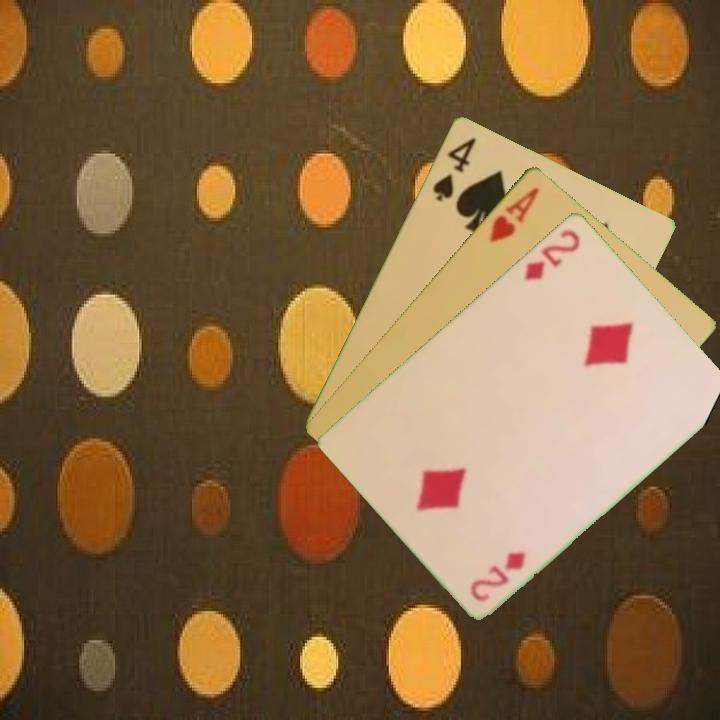2d: (521, 225, 584, 283), (466, 547, 529, 604)
4s: (429, 133, 479, 204)
Ah: (485, 183, 542, 245)
